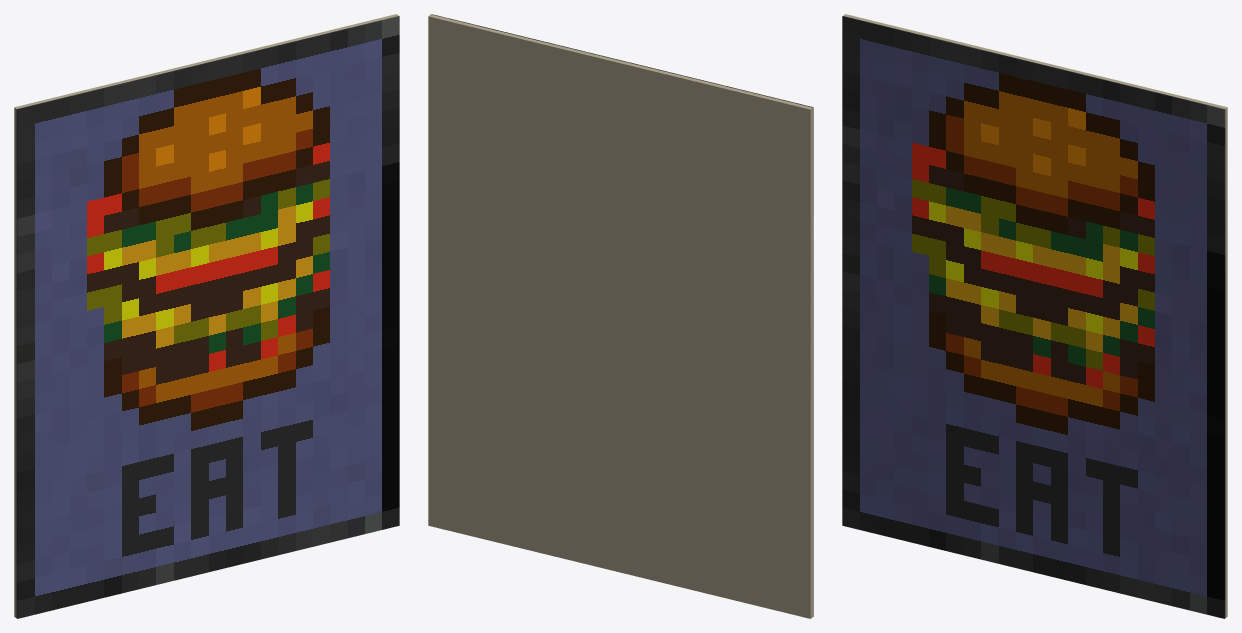
Rendered from CMU3DWallPosterPosterContrabandEAT.glb.
The picture shows the model from 3 angles, left to right: view 1: azimuth 30°, elevation 25°; view 2: azimuth 150°, elevation 25°; view 3: azimuth 330°, elevation 25°; orthographic projection.
Visible parts, largest first — view 1: unchanged printed face, silhouette paper backing 0; view 2: silhouette paper backing 0, unchanged printed face; view 3: unchanged printed face, silhouette paper backing 0.
Part boxes in pixels (x1,y1,x2,y2): unchanged printed face: (16, 16, 399, 618); silhouette paper backing 0: (14, 14, 398, 617); silhouette paper backing 0: (428, 14, 813, 618); unchanged printed face: (431, 14, 813, 616); unchanged printed face: (842, 16, 1225, 618); silhouette paper backing 0: (843, 14, 1227, 617).
Bounding box in the file's own units: 0.6875 × 0.875 × 0.01.
2 materials, 1 textured.
